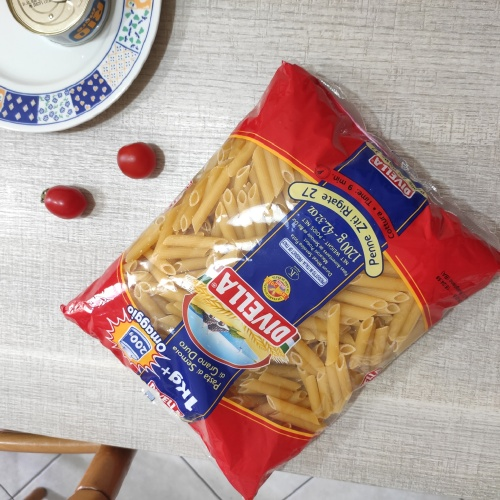pasta: (164, 157, 410, 430)
pomodoro: (39, 182, 89, 221), (116, 138, 156, 182)
